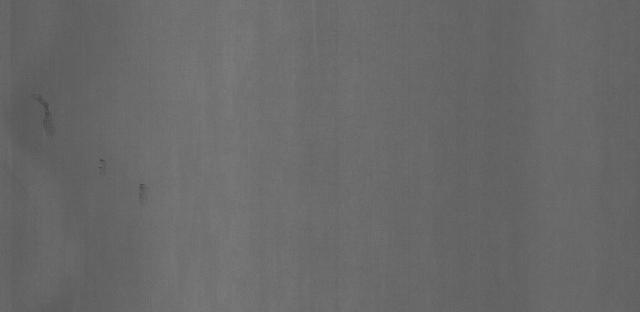water_spot: (28, 86, 63, 137), (133, 177, 164, 210), (88, 146, 114, 181)
